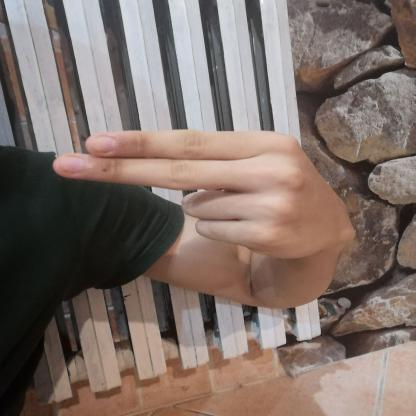AYN: (29, 113, 355, 270)
